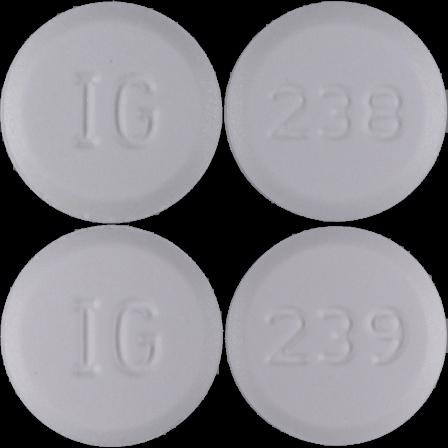31722-238: (0, 0, 224, 224)
